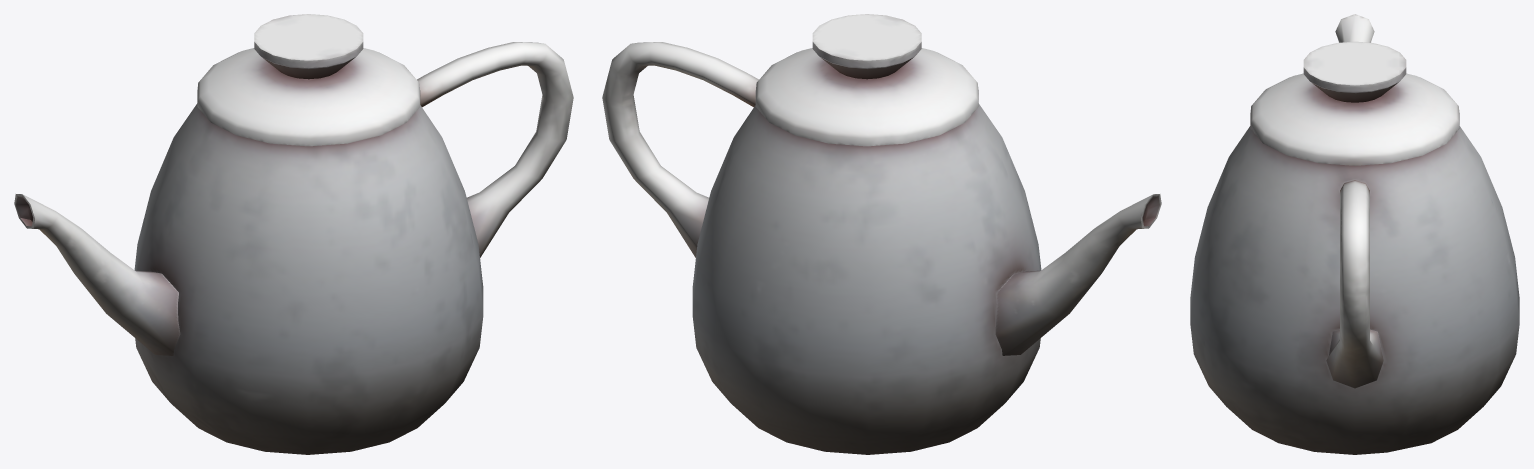
File: Kettle01.FBX
3 views of the same model, side by side, from view 1: azimuth 30°, elevation 25°; view 2: azimuth 150°, elevation 25°; view 3: azimuth 270°, elevation 25° (orthographic). The views are drawn at different scales.
Parts seen in each view (by area): view 1: Kettle01; view 2: Kettle01; view 3: Kettle01.
Boxes of the visible parts, x1,y1,x2,y2 form: Kettle01: (14,14,573,454); Kettle01: (602,14,1161,454); Kettle01: (1190,14,1519,454).
Size of what is drawn, in the model's own units: 0.442 by 0.2796 by 0.2444.
